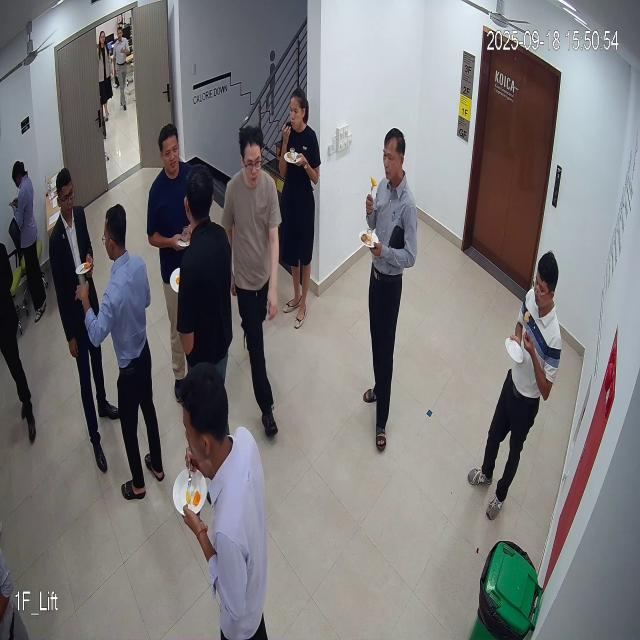face: (378, 128, 409, 185), (531, 251, 560, 311), (238, 123, 264, 189), (156, 122, 184, 180), (54, 163, 77, 222), (288, 88, 310, 135)
